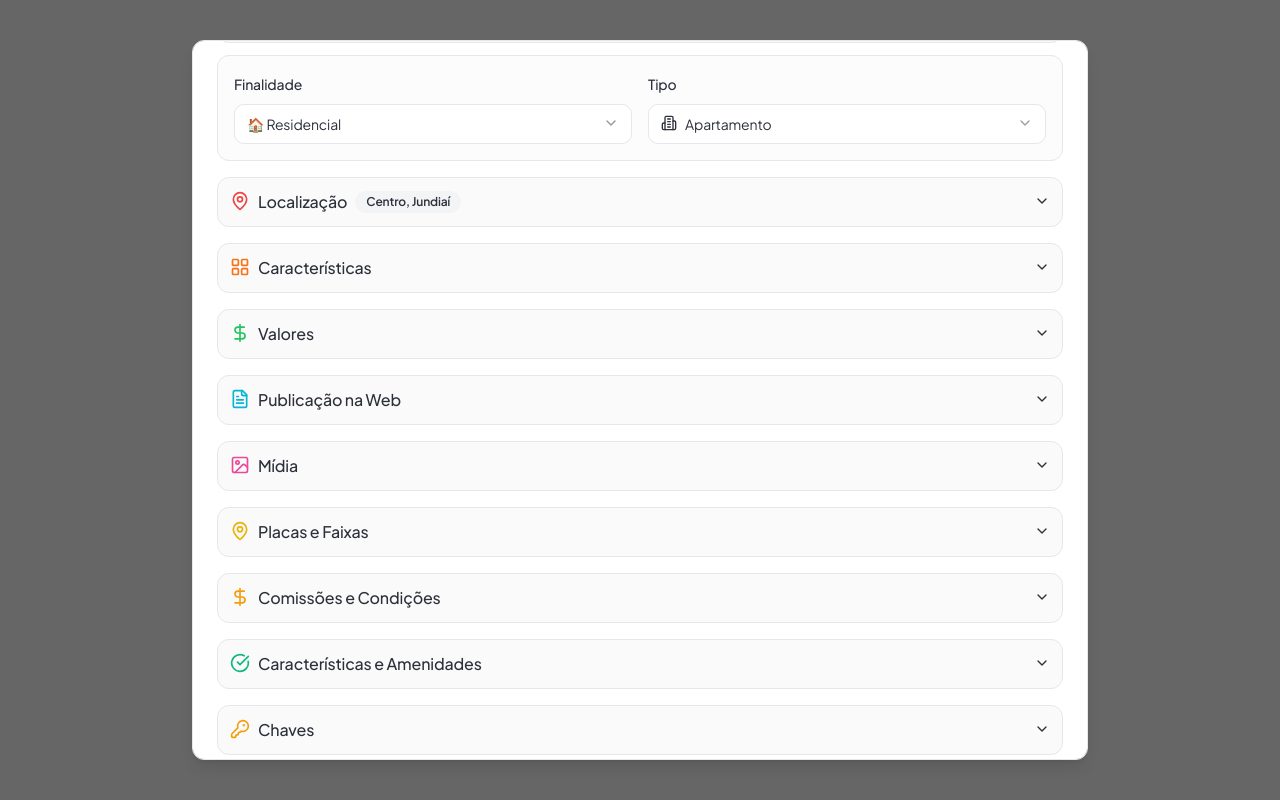
CriarImovelForm — rascunho › publicar rascunho que outra tela publicou/excluiu não grava nada e trava os botões
(page scrolled)
Click the button "Publicação na Web" at [330, 400], box top-left (217, 375), bottom-right (1063, 425)
(page scrolled)
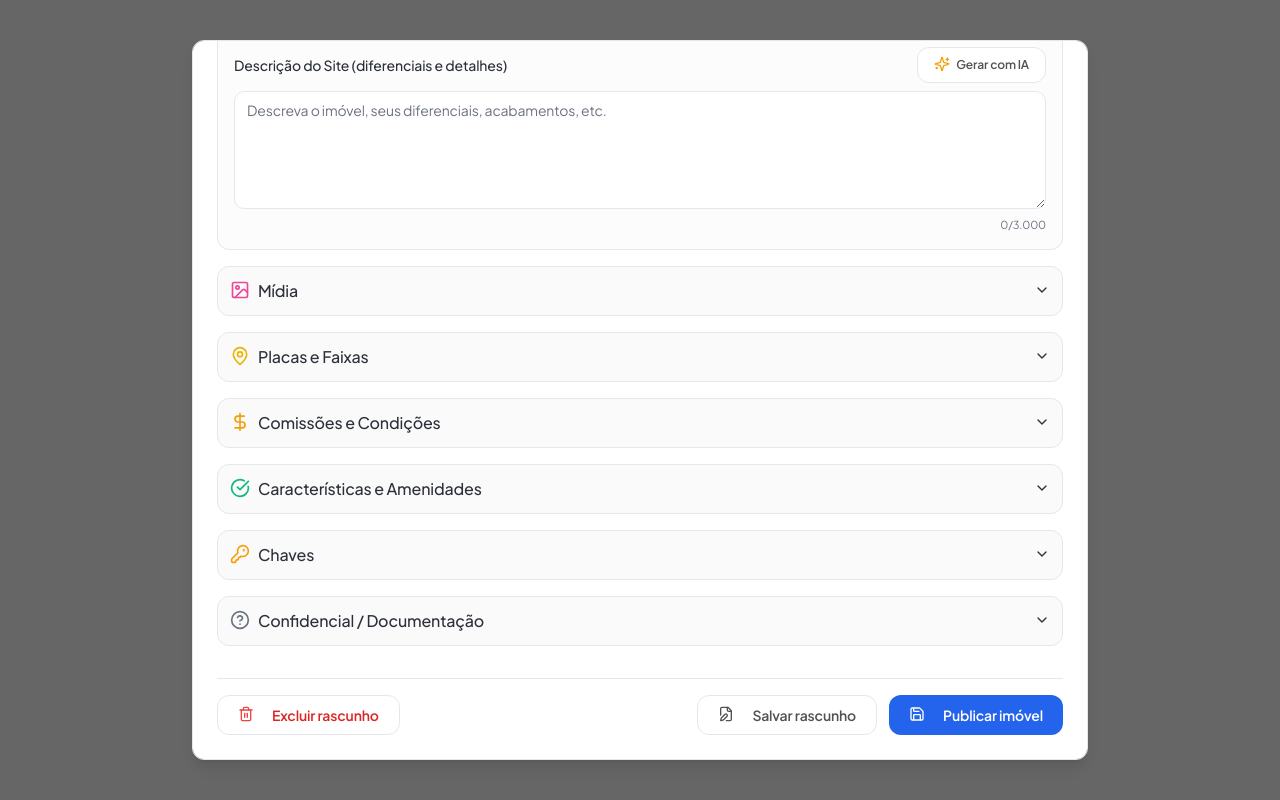
Click the button "Publicar imóvel" at [976, 715], box top-left (889, 695), bottom-right (1063, 735)
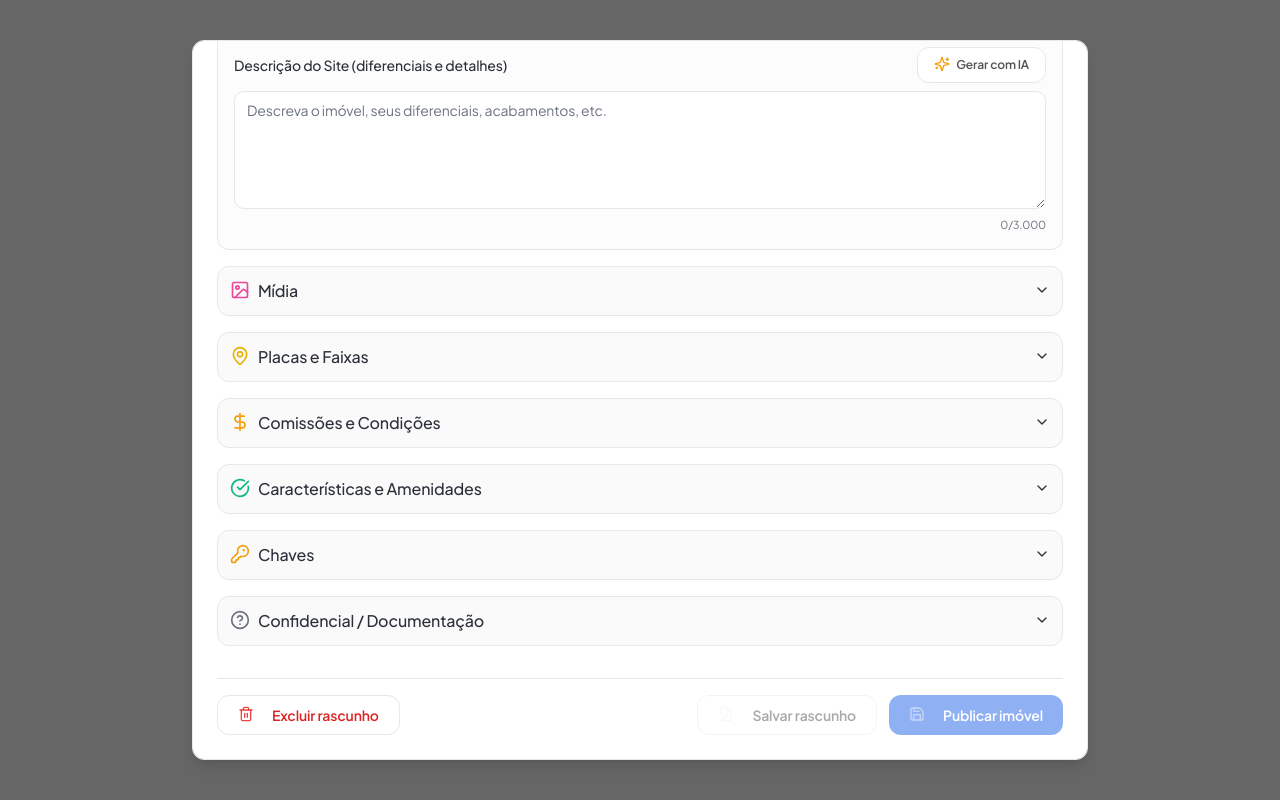
Result: the button "Publicar imóvel" is disabled at top-left (889, 695), bottom-right (1063, 735)
Result: the button "Salvar rascunho" is disabled at top-left (697, 695), bottom-right (877, 735)
